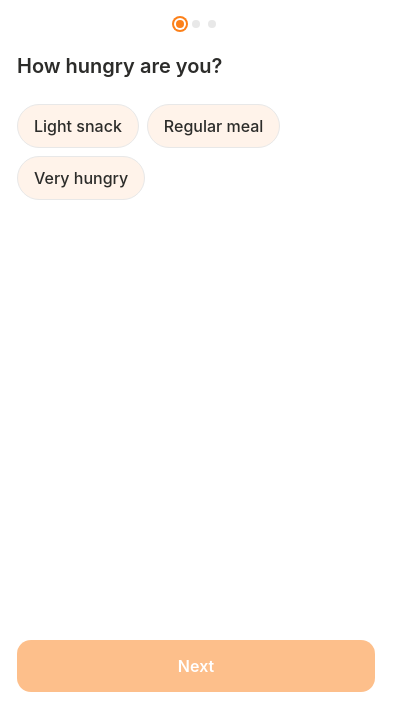
Test: Questions — Q2 → Q3 step advance (Item 12) › Q3 heading 'Any constraints?' is visible after advancing from Q2
This screenshot has width=393, height=710.
Click the radio button labelled "Regular meal" at (214, 126), box [147,104,280,148]
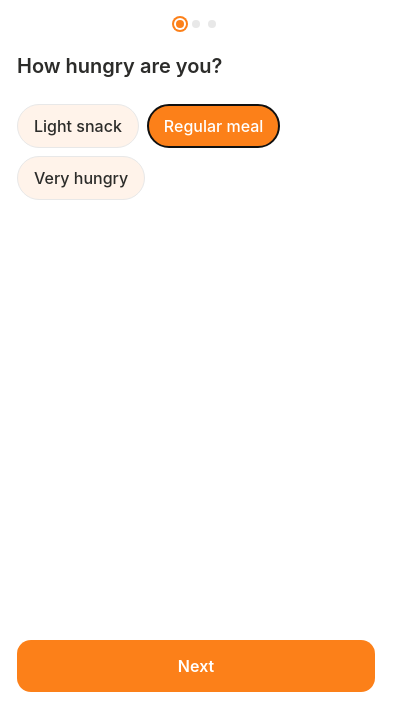
Click the button "Next" at (196, 666), box [17,640,375,692]
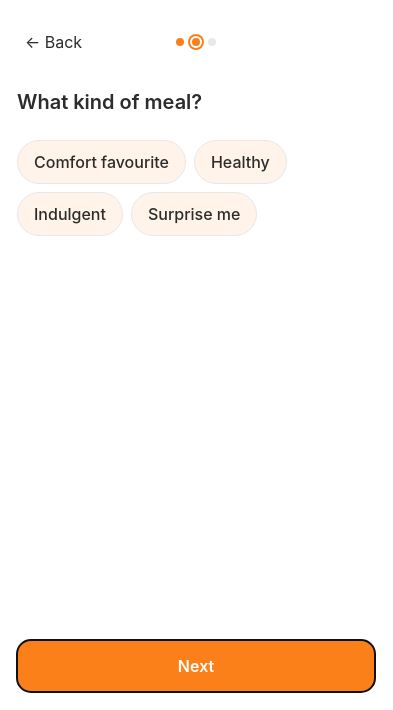
Click the button "Next" at (196, 666), box [17,640,375,692]
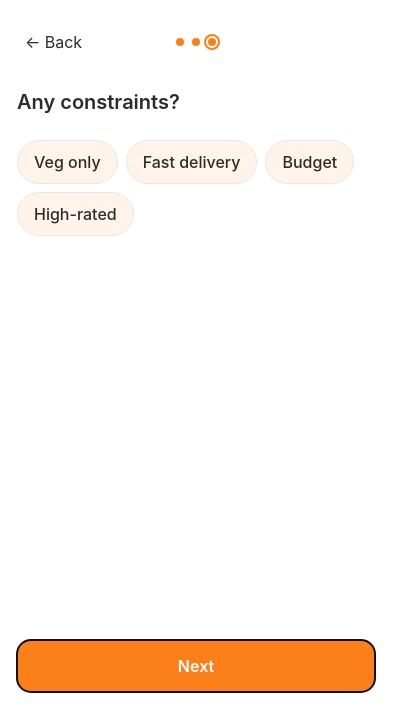
Expected: the heading "Any constraints?" is shown, [17,90,180,114]
